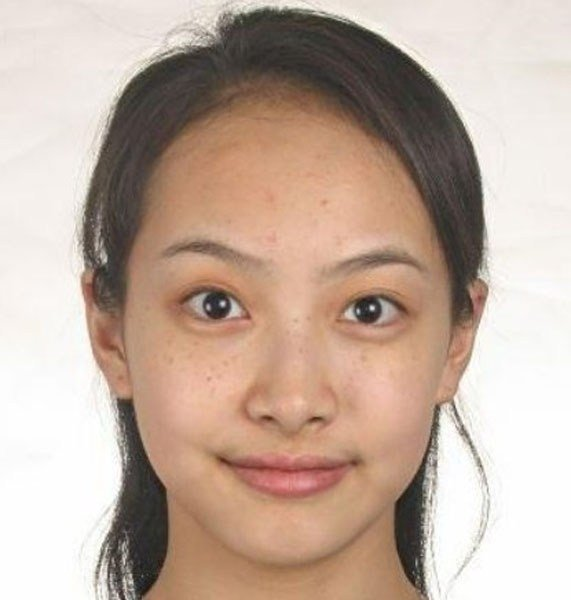unmask: (117, 132, 452, 550)
